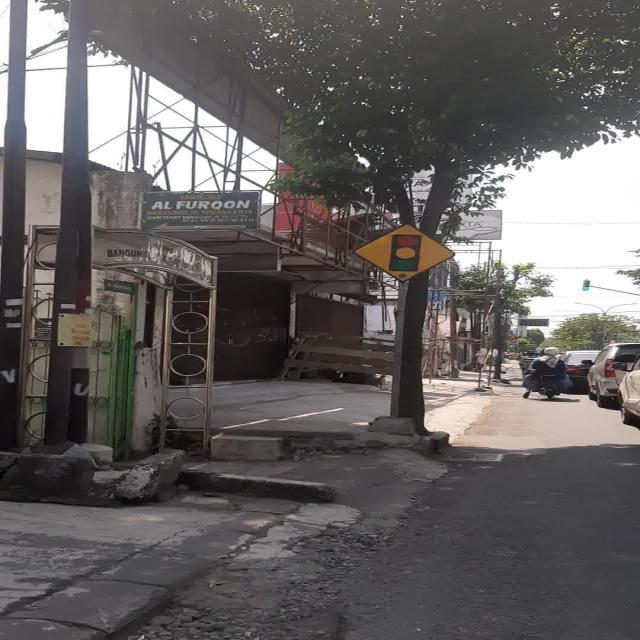Lampu Lalu Lintas: (354, 223, 456, 282)
